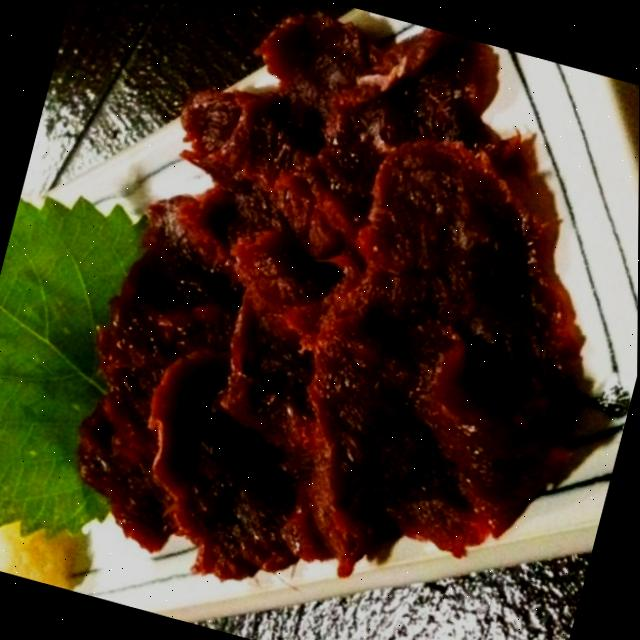刺身生食: (1, 0, 640, 640)
